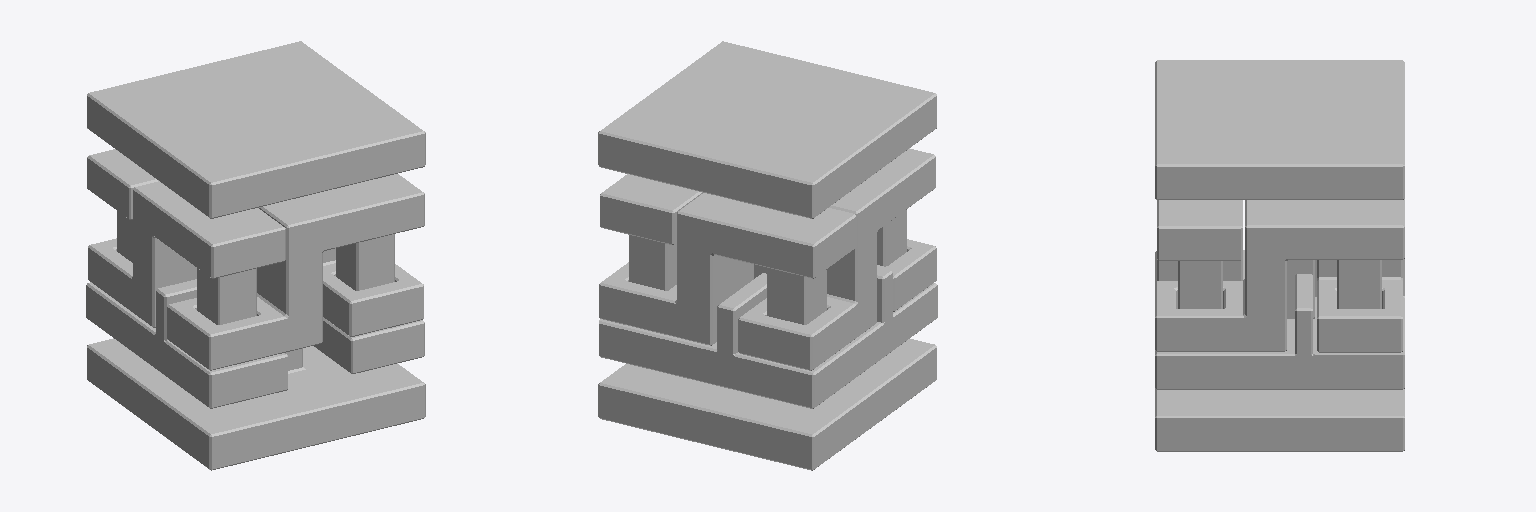
Rendered from casse-tete-final.obj.
The picture shows the model from 3 angles: view 1: azimuth 30°, elevation 25°; view 2: azimuth 150°, elevation 25°; view 3: azimuth 270°, elevation 25°; orthographic projection.
Visible parts, largest first — view 1: Base, Piece2, Piece1, Flat_Piece, Piece3, Piece4; view 2: Base, Piece4, Flat_Piece, Piece1, Piece3, Piece2; view 3: Base, Piece3, Flat_Piece, Piece2, Piece4.
Part boxes in pixels (left/top/right/bottom): Base: left=87, top=41, right=425, bottom=470; Piece2: left=167, top=174, right=424, bottom=370; Piece1: left=88, top=181, right=285, bottom=327; Flat_Piece: left=86, top=279, right=424, bottom=408; Piece3: left=323, top=248, right=423, bottom=336; Piece4: left=87, top=149, right=157, bottom=262; Base: left=598, top=41, right=936, bottom=470; Piece4: left=599, top=193, right=856, bottom=345; Flat_Piece: left=599, top=267, right=937, bottom=408; Piece1: left=738, top=148, right=935, bottom=370; Piece3: left=600, top=174, right=702, bottom=290; Piece2: left=877, top=239, right=936, bottom=311; Base: left=1155, top=60, right=1404, bottom=451; Piece3: left=1155, top=199, right=1404, bottom=351; Flat_Piece: left=1155, top=250, right=1404, bottom=389; Piece2: left=1157, top=200, right=1242, bottom=308; Piece4: left=1317, top=260, right=1402, bottom=352.
Bounding box in the file's own units: 9.87 × 12.52 × 9.85.